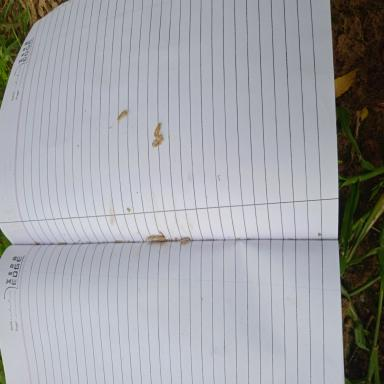pbw: (152, 135, 163, 147), (154, 123, 162, 138), (117, 110, 127, 120)
